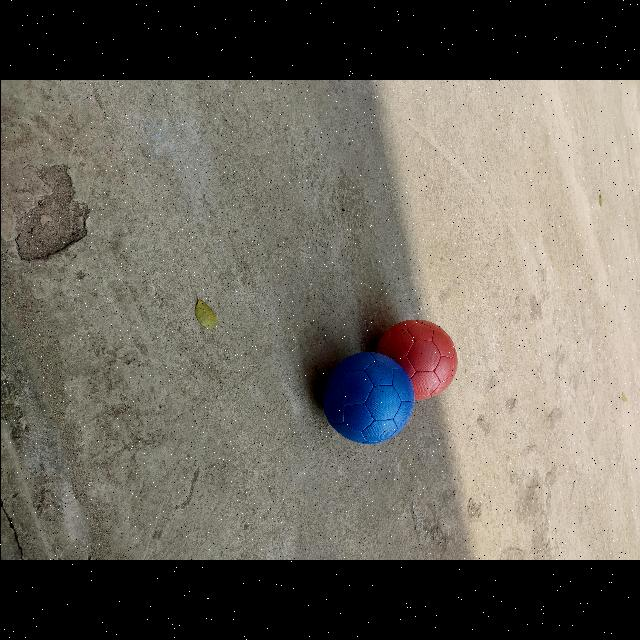B: (321, 352, 414, 444)
R: (376, 320, 456, 399)
